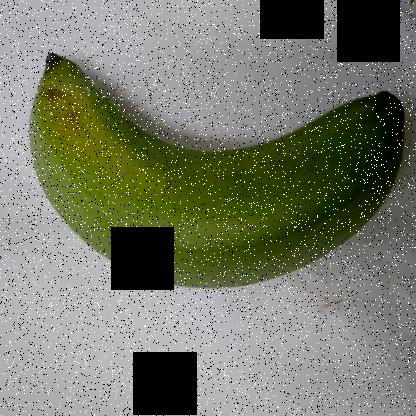freshunripe: (17, 30, 416, 296)
